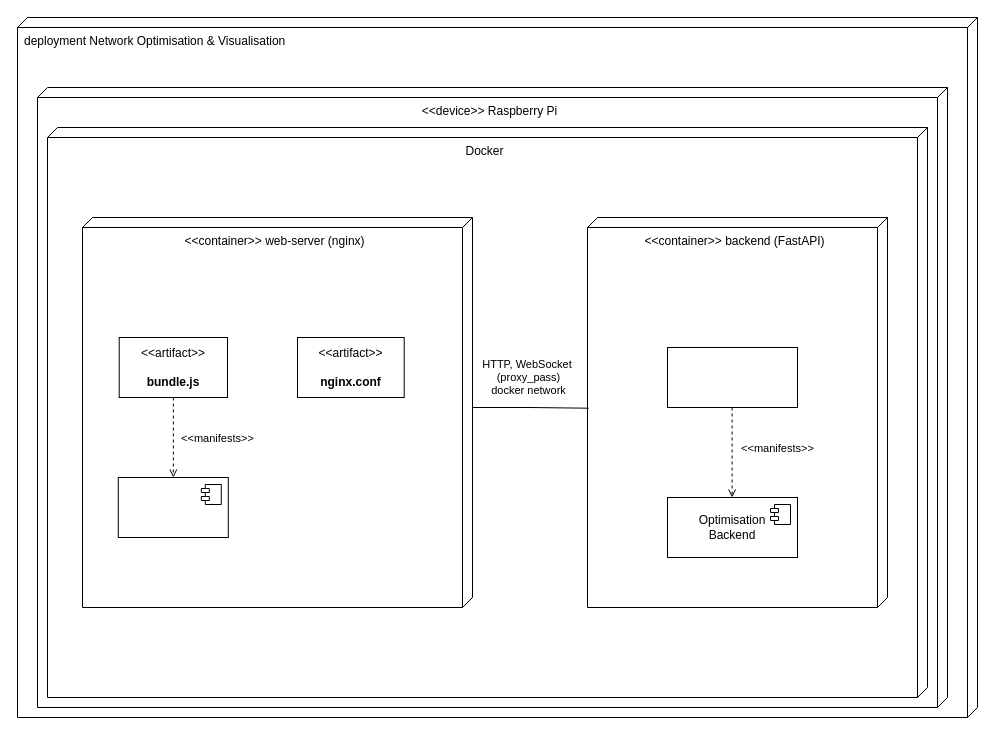
Image size: 995x735. Some labels were removed from this diagram. The shapes that lost their labels are listed below. From the top down, each one's box as (x1, y1, x2, y2) in pixels, then its label:
(666, 346, 798, 408): <<artifact>> main.py, *.py
(117, 476, 228, 538): WebApp
